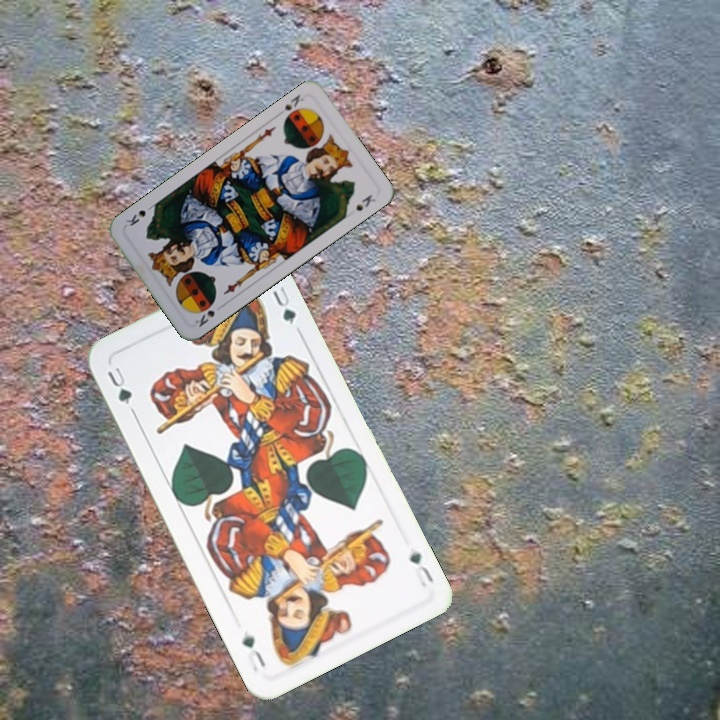GU: (103, 362, 137, 416), (405, 546, 437, 590)
SK: (191, 300, 226, 330), (280, 90, 306, 113)
